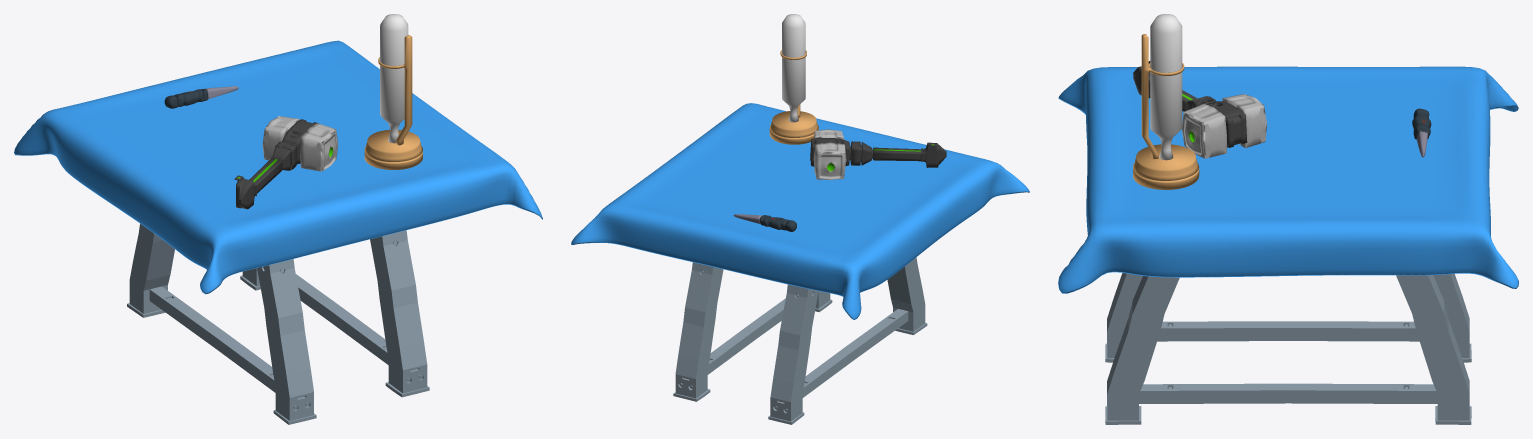
The model's file is RepairTable.fbx.
3 renders of one model, left to right at view 1: azimuth 30°, elevation 25°; view 2: azimuth 150°, elevation 25°; view 3: azimuth 270°, elevation 25°, orthographic. The views are drawn at different scales.
Parts seen in each view (by area): view 1: Towel, Table, BaseLamp, Lamp, Cabeca, Cabo, parafusadeira; view 2: Towel, Table, Lamp, Cabo, BaseLamp, Cabeca, parafusadeira; view 3: Towel, Table, Lamp, BaseLamp, Cabeca, Cabo, parafusadeira.
Part boxes in pixels (x1,y1,x2,y2): Towel: (14,40,542,294); Table: (127,223,429,424); BaseLamp: (364,35,422,169); Lamp: (380,14,408,143); Cabeca: (262,116,338,171); Cabo: (234,119,318,209); parafusadeira: (164,86,238,108); Towel: (571,103,1029,319); Table: (673,257,927,424); Lamp: (782,14,805,122); Cabo: (810,137,946,167); BaseLamp: (769,50,818,144); Cabeca: (813,129,846,179); parafusadeira: (733,214,796,231); Towel: (1058,66,1518,293); Table: (1105,273,1471,424); Lamp: (1150,14,1182,160); BaseLamp: (1133,34,1199,189); Cabeca: (1182,94,1266,158); Cabo: (1133,61,1247,147); parafusadeira: (1412,108,1431,157).
Size of the model in its own units: 164 by 166 by 161.
